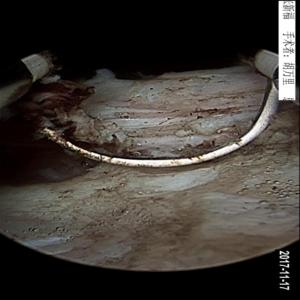film: (89, 69, 273, 150)
